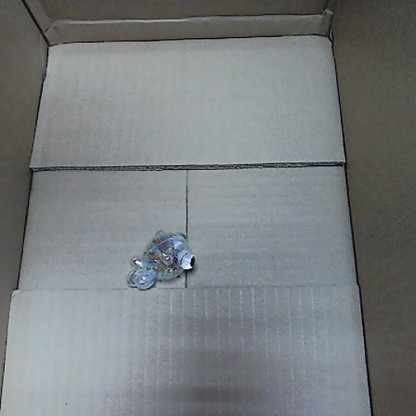whitefish: (126, 226, 198, 292)
